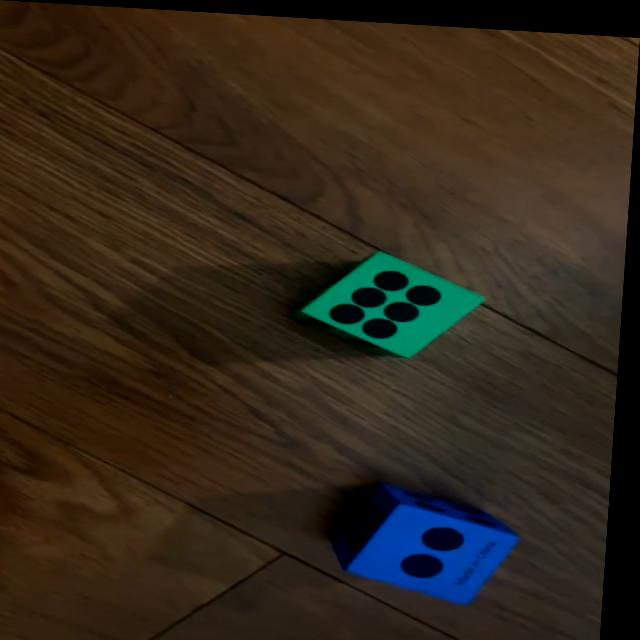cube: (335, 476, 529, 601), (298, 244, 497, 356)
